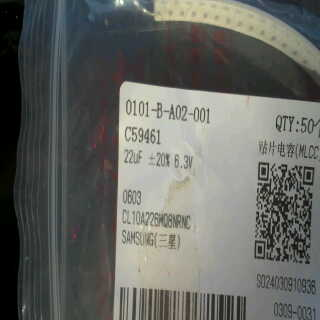22uF: (121, 145, 147, 166)
